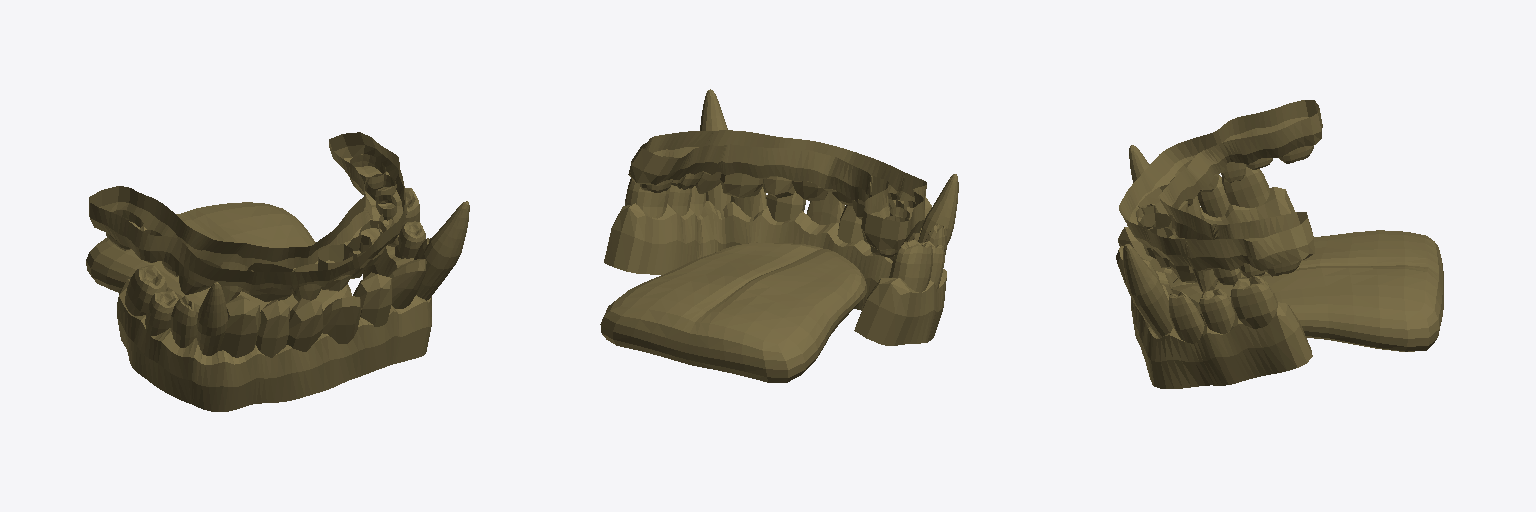
The model's file is KongLowPoly_low.obj.
The picture shows the model from 3 angles: view 1: azimuth 30°, elevation 25°; view 2: azimuth 150°, elevation 25°; view 3: azimuth 270°, elevation 25°; orthographic projection.
Parts seen in each view (by area): view 1: Kong All_Kong lowerTeethFinal, UpperteethFinal Kong All_Kong, Kong All_Kong Tongue; view 2: Kong All_Kong lowerTeethFinal, Kong All_Kong Tongue, UpperteethFinal Kong All_Kong; view 3: Kong All_Kong lowerTeethFinal, UpperteethFinal Kong All_Kong, Kong All_Kong Tongue.
Boxes of the visible parts, x1=… form: Kong All_Kong lowerTeethFinal: x1=117, y1=188, x2=469, y2=411; UpperteethFinal Kong All_Kong: x1=89, y1=132, x2=406, y2=302; Kong All_Kong Tongue: x1=86, y1=202, x2=351, y2=313; Kong All_Kong lowerTeethFinal: x1=604, y1=89, x2=958, y2=345; Kong All_Kong Tongue: x1=600, y1=243, x2=866, y2=382; UpperteethFinal Kong All_Kong: x1=628, y1=130, x2=926, y2=257; Kong All_Kong lowerTeethFinal: x1=1116, y1=145, x2=1312, y2=388; UpperteethFinal Kong All_Kong: x1=1119, y1=100, x2=1322, y2=291; Kong All_Kong Tongue: x1=1171, y1=230, x2=1443, y2=351.
Bounding box in the file's own units: 0.7456 × 0.4082 × 0.692.